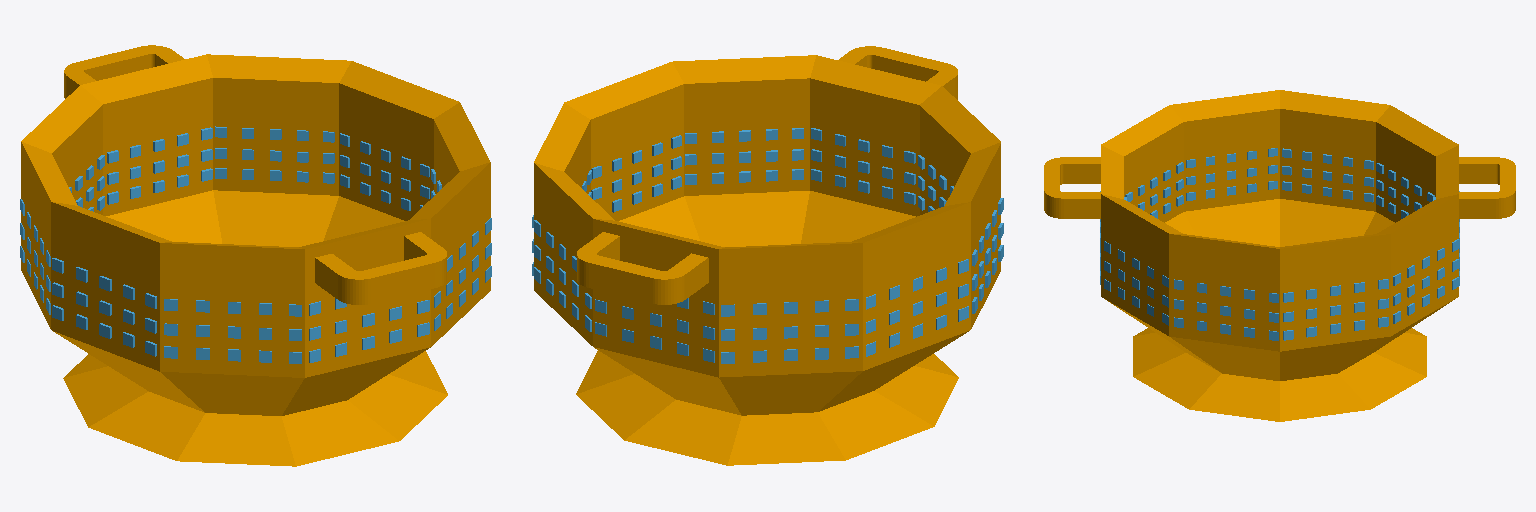
robot.urdf — colander:
<?xml version="1.0"?>
<robot name="colander">
  <link name="colander">
    <inertial>
        <origin rpy="0 0 0" xyz="0 0 0"/>
        <mass value="0.01"/>
        <inertia ixx="4.4e-5" ixy="0" ixz="0" iyy="0" iyz="0" izz="4.4e-5"/>
    </inertial>
    <visual>
      <geometry>
        <mesh filename="Colander.obj"/>
      </geometry>
    </visual>
    <collision>
      <geometry>
        <mesh filename="ColanderCollider.obj"/>
      </geometry>
      <surface>
           <bounce restitution_coefficient = "0.1"/>
      </surface>
    </collision>
  </link>
  <link name="holes">
    <inertial>
        <origin rpy="0 0 0" xyz="0 0 0"/>
        <mass value="0.01"/>
        <inertia ixx="4.4e-5" ixy="0" ixz="0" iyy="0" iyz="0" izz="4.4e-5"/>
    </inertial>
    <visual>
      <geometry>
        <mesh filename="ColanderHoles.obj"/>
      </geometry>
    </visual>
    <collision>
      <geometry>
        <mesh filename="ColanderHolesCollider.obj"/>
      </geometry>
      <surface>
           <bounce restitution_coefficient = "0.1"/>
      </surface>
    </collision>
  </link>
<joint name="colander_to_holes" type="fixed">
    <parent link="colander"/>
    <child link="holes"/>
    <origin rpy="0 0 0" xyz="0 0 0"/>
  </joint>
</robot>

--- Render facts (derived) ---
The picture shows the robot from 3 angles, left to right: view 1: azimuth 30°, elevation 25°; view 2: azimuth 150°, elevation 25°; view 3: azimuth 270°, elevation 25°; orthographic projection.
Robot: colander — 2 links, 1 joints (1 fixed); root link colander; default pose: every joint at zero.
Visible links, largest first — view 1: colander, holes; view 2: colander, holes; view 3: colander, holes.
Boxes of the visible links, left/top/right/bottom form: colander: left=21, top=45, right=490, bottom=466; holes: left=20, top=126, right=491, bottom=363; colander: left=534, top=46, right=1000, bottom=465; holes: left=532, top=128, right=1003, bottom=363; colander: left=1044, top=90, right=1515, bottom=421; holes: left=1100, top=148, right=1459, bottom=340.
Size in the robot's own frame: 0.3308 by 0.411 by 0.1804 metres.
2 mesh visuals loaded from 2 distinct referenced files (2 OBJ).
